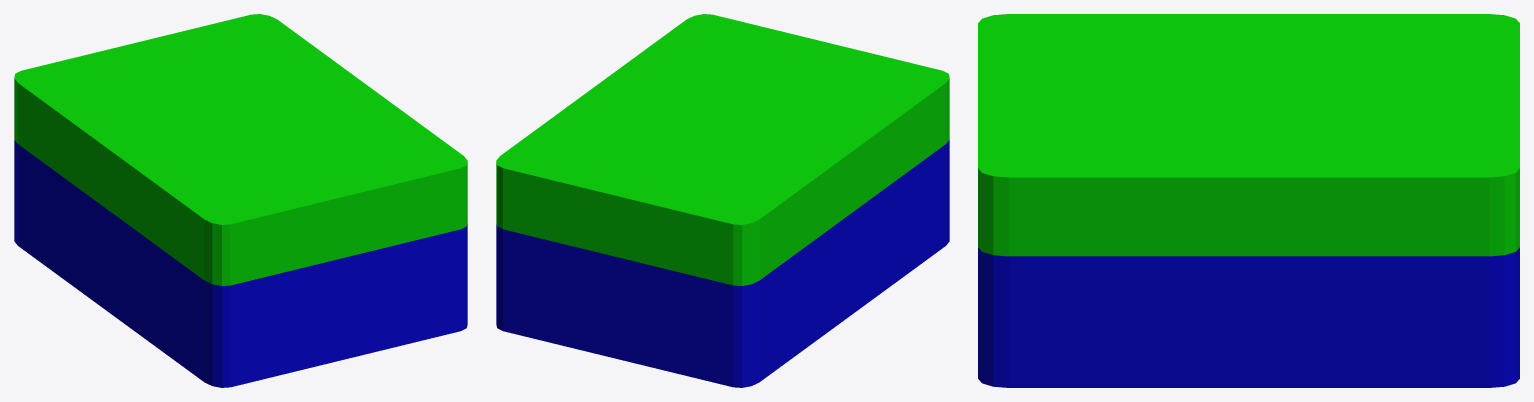
The model's file is 3DTile.fbx.
3 views of the same model, side by side, from view 1: azimuth 30°, elevation 25°; view 2: azimuth 150°, elevation 25°; view 3: azimuth 270°, elevation 25° (orthographic). The views are drawn at different scales.
Parts seen in each view (by area): view 1: Cube; view 2: Cube; view 3: Cube.
Part boxes in pixels (x1,y1,x2,y2): Cube: [14, 14, 467, 387]; Cube: [496, 14, 949, 387]; Cube: [978, 14, 1519, 387].
Bounding box in the file's own units: 200 × 120 × 280.
